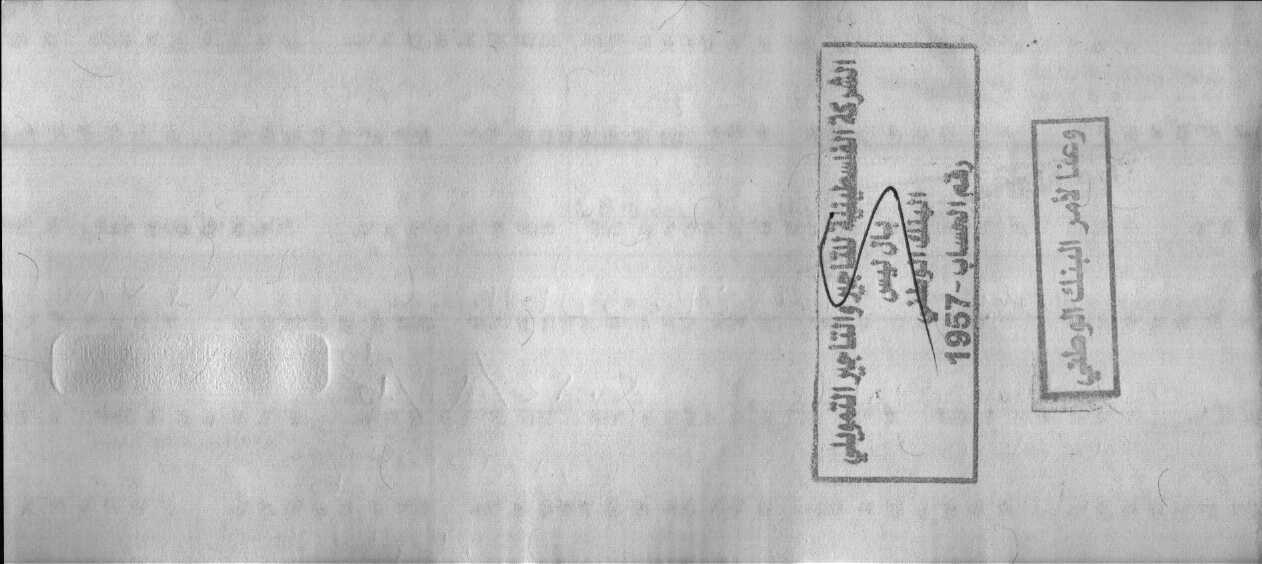stamp: (807, 39, 986, 488), (1028, 114, 1124, 406)
